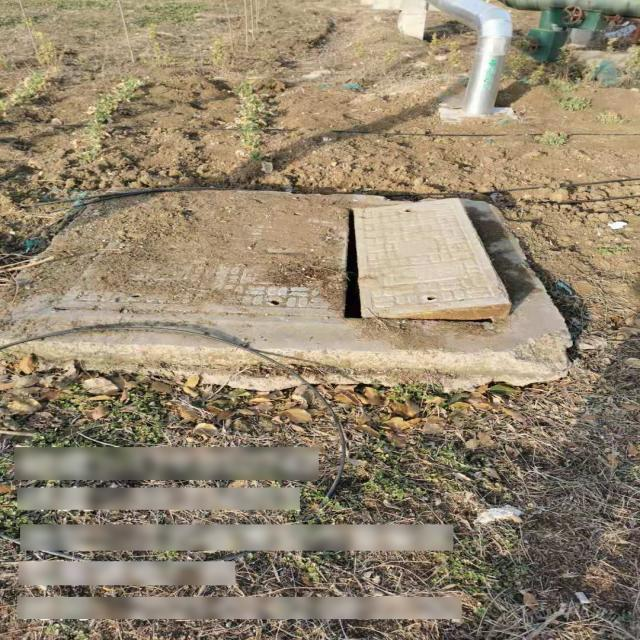Faulty: (51, 192, 512, 327)
